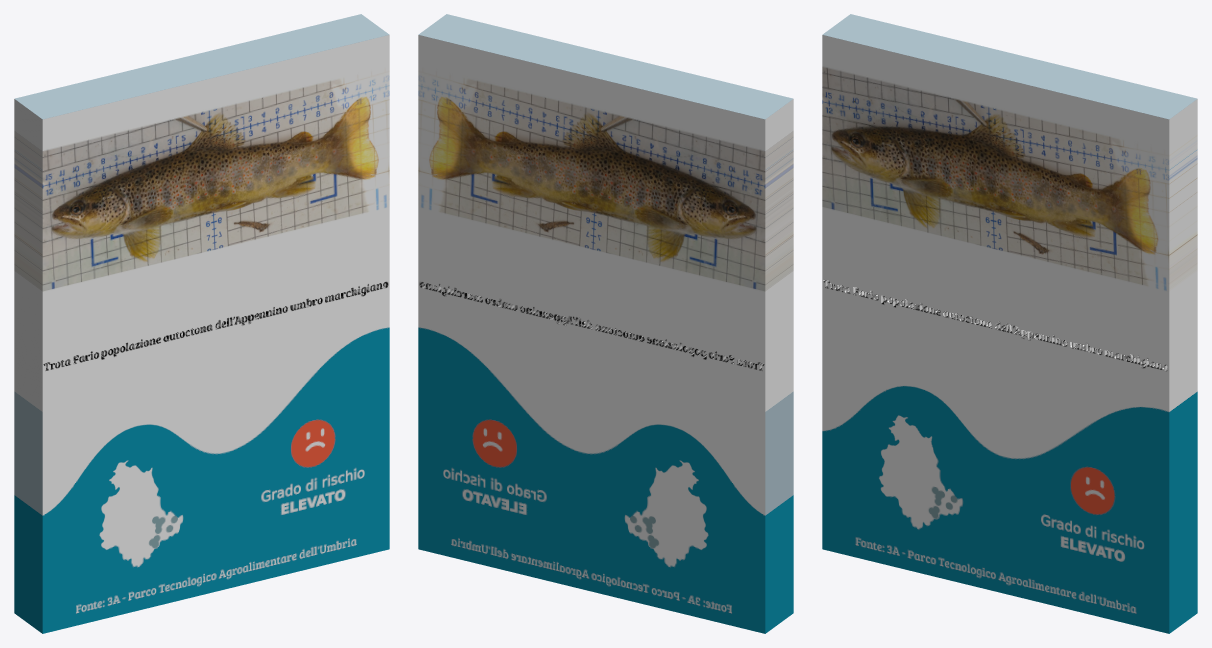
3 renders of one model, left to right at view 1: azimuth 30°, elevation 25°; view 2: azimuth 150°, elevation 25°; view 3: azimuth 330°, elevation 25°, orthographic.
Size of the model in its own units: 0.1542 by 0.2184 by 0.0218.
1 material, 1 textured.
